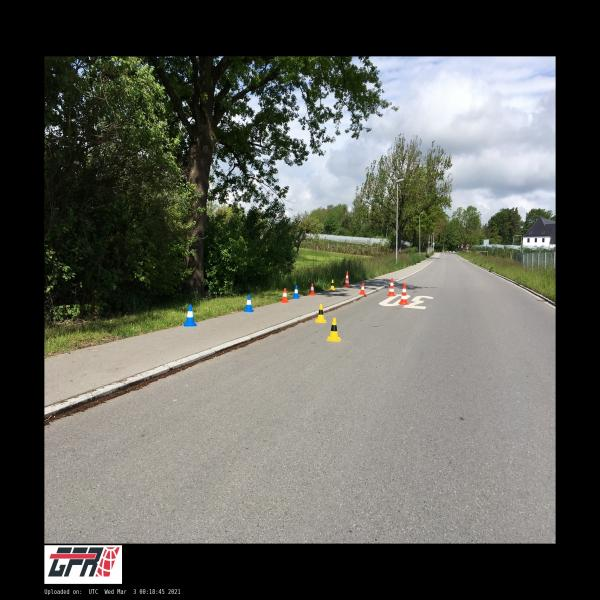blue_cone: (183, 305, 197, 326), (243, 294, 254, 312), (292, 285, 300, 299)
large_orange_cone: (398, 283, 408, 305), (387, 278, 396, 296), (344, 271, 350, 287)
orange_cone: (280, 288, 289, 303), (308, 284, 316, 296), (359, 283, 366, 295)
yellow_cone: (326, 318, 341, 342), (316, 304, 326, 323), (330, 280, 336, 290)
